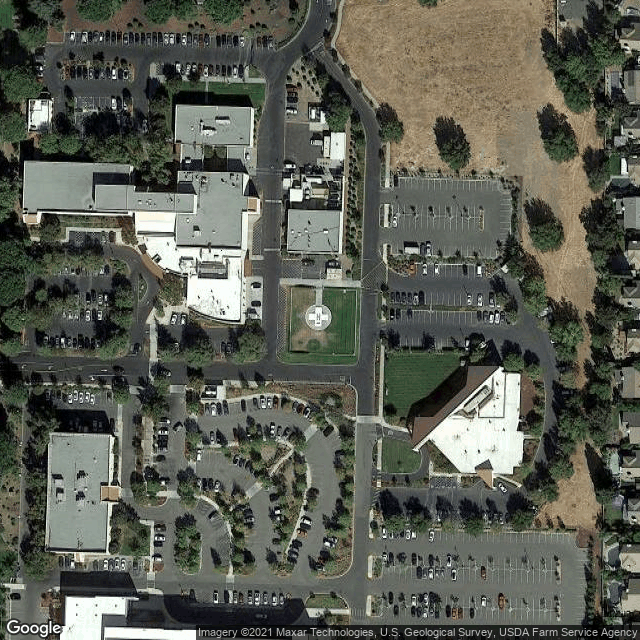Helipad: (301, 300, 337, 334)
